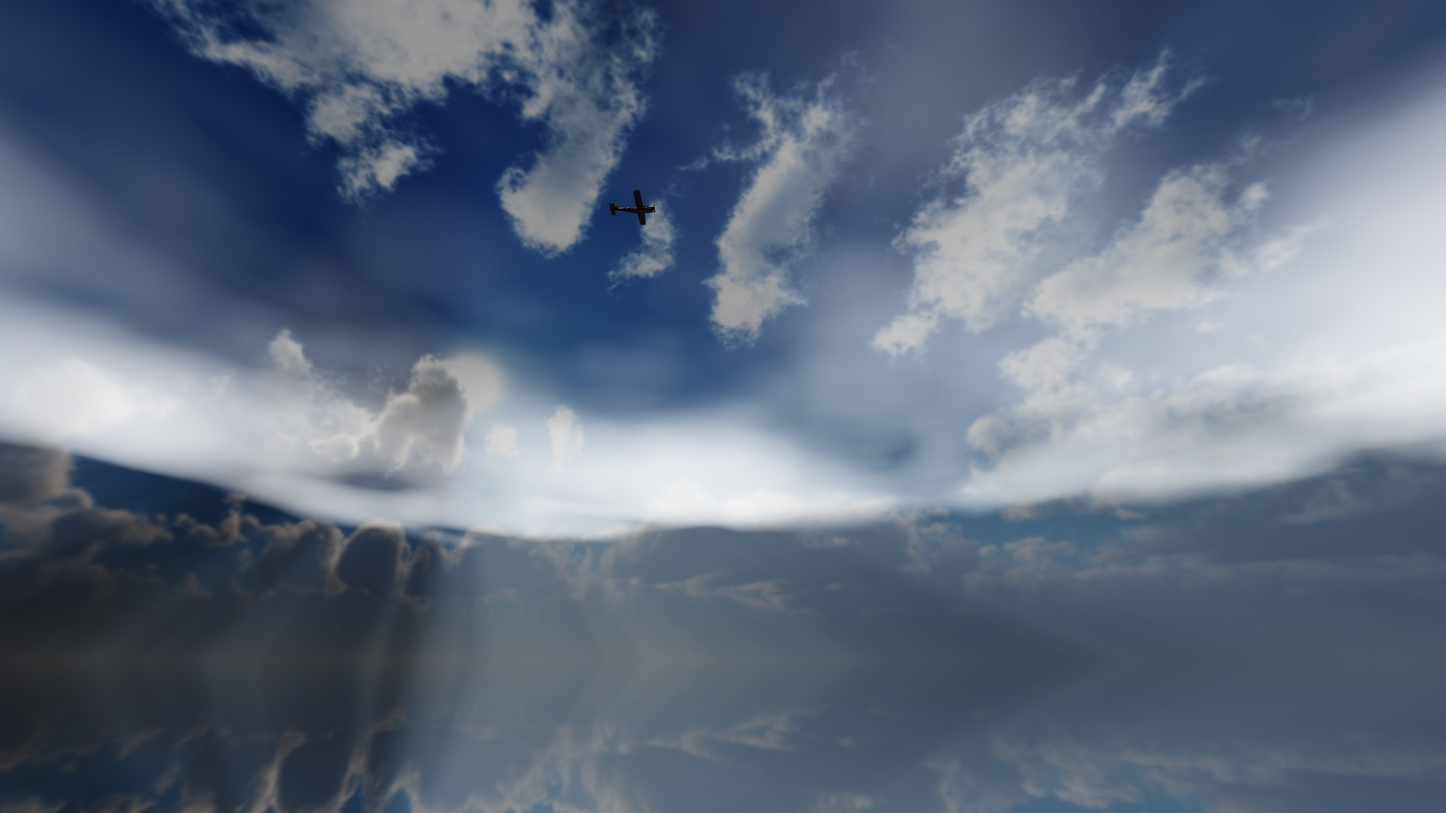drone_other: (609, 190, 656, 225)
